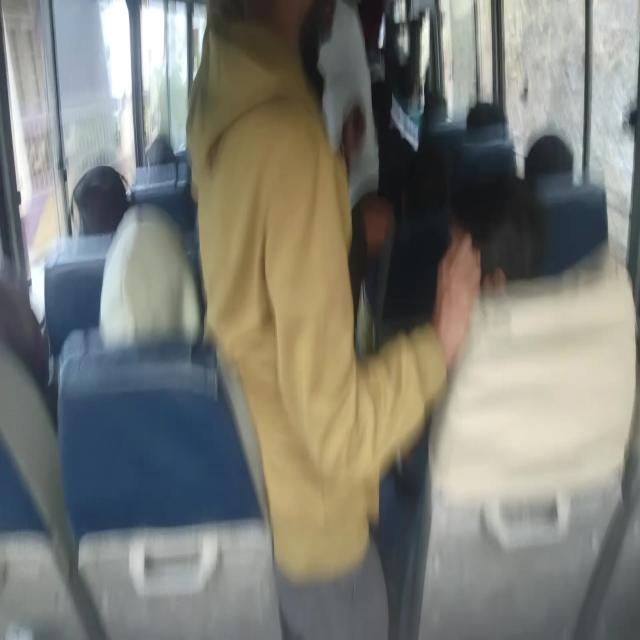person: (184, 0, 483, 638), (98, 201, 202, 349)
